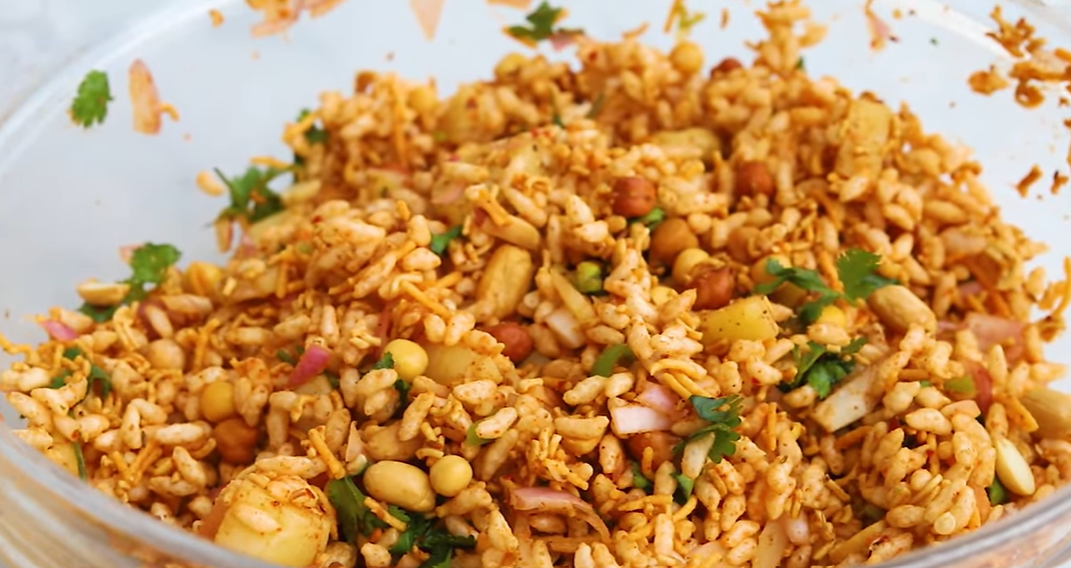chatpate: (110, 86, 984, 514)
